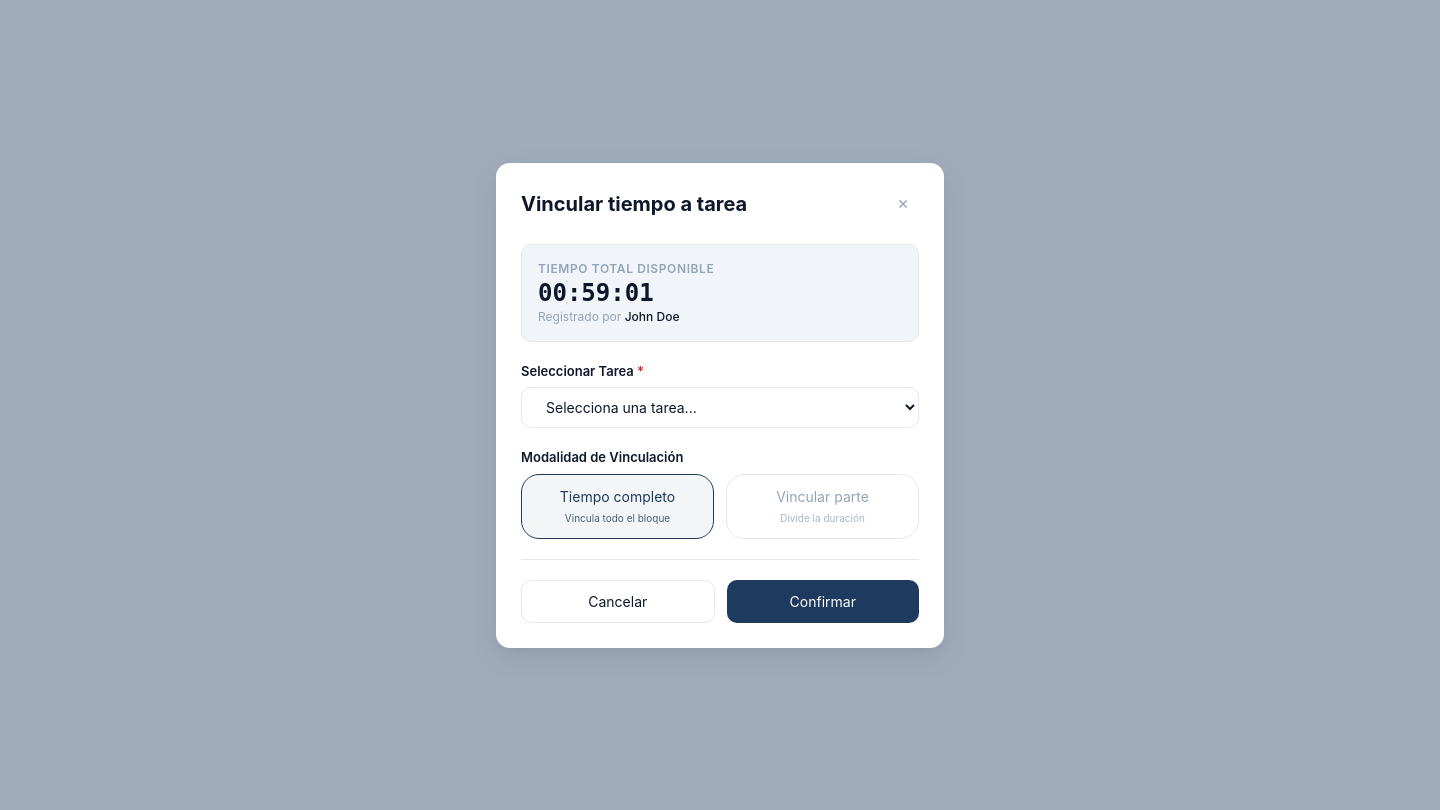
Test case: LinkTimeModal Component › User Interactions & Validations › should throw error when remaining time is less than 1 second
The width and height of the screenshot is (1440, 810).
Click the button "Vincular parte Divide la duración". click: (822, 506)
box: [726,474,919,538]
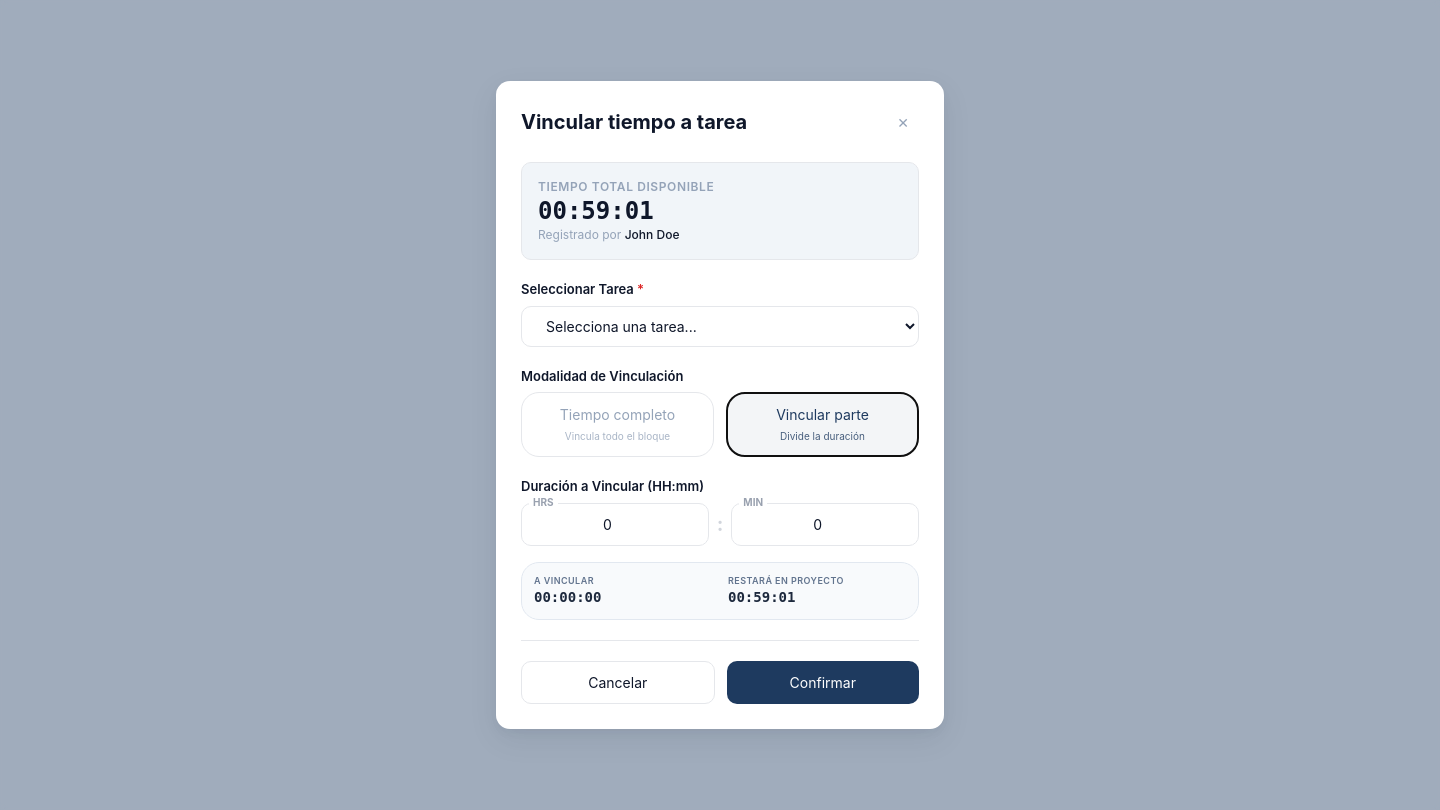
Select "Tarea: Design UI (Por hacer)" in the dropdown labelled "Seleccionar Tarea *". click: (720, 326)
box: [521,306,919,347]
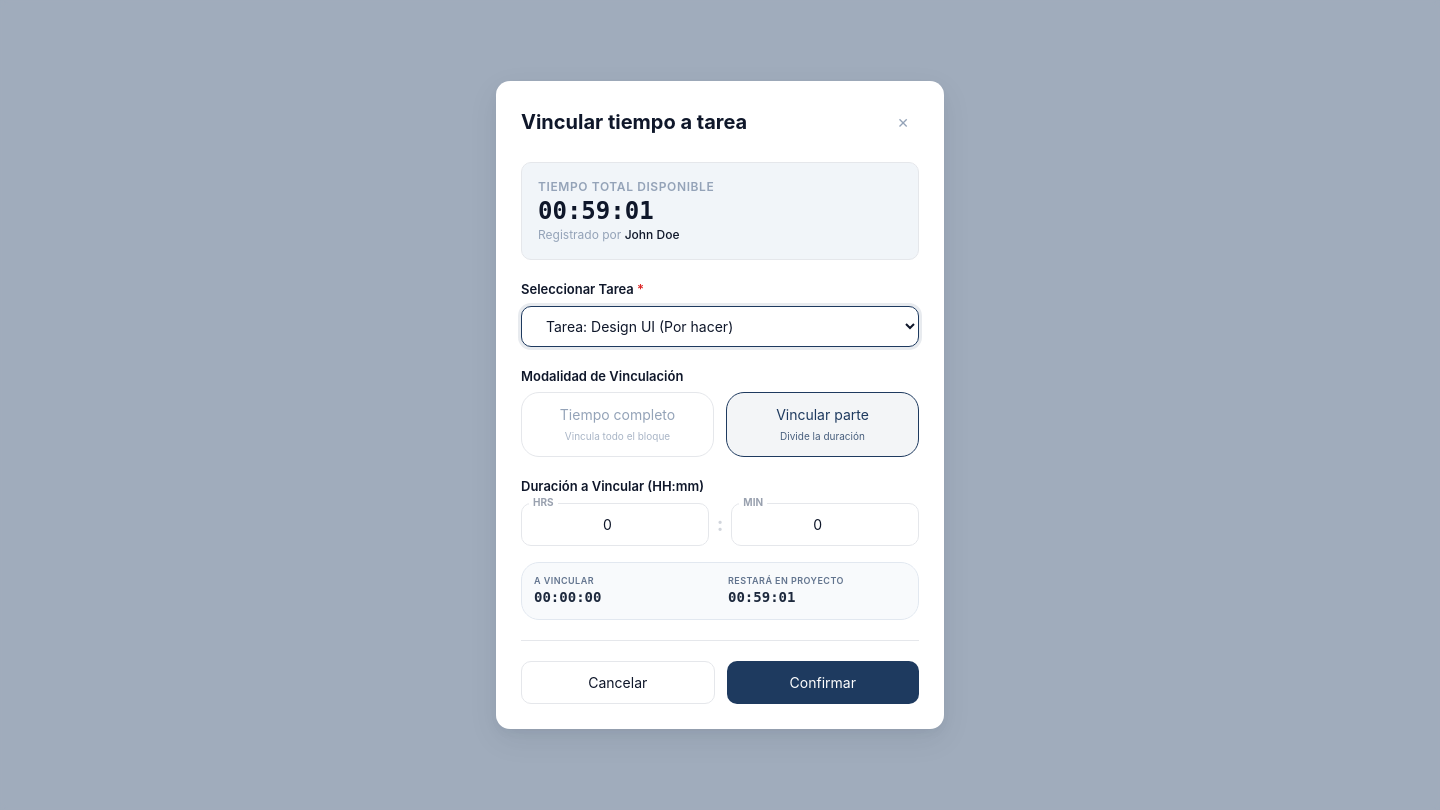
Note: Set duration to 59 minutes (leaves less than 1 second)
Replace the text in the number field with placeholder "MM" next to "MIN" with "59". click: (825, 524)
box: [731,503,919,546]
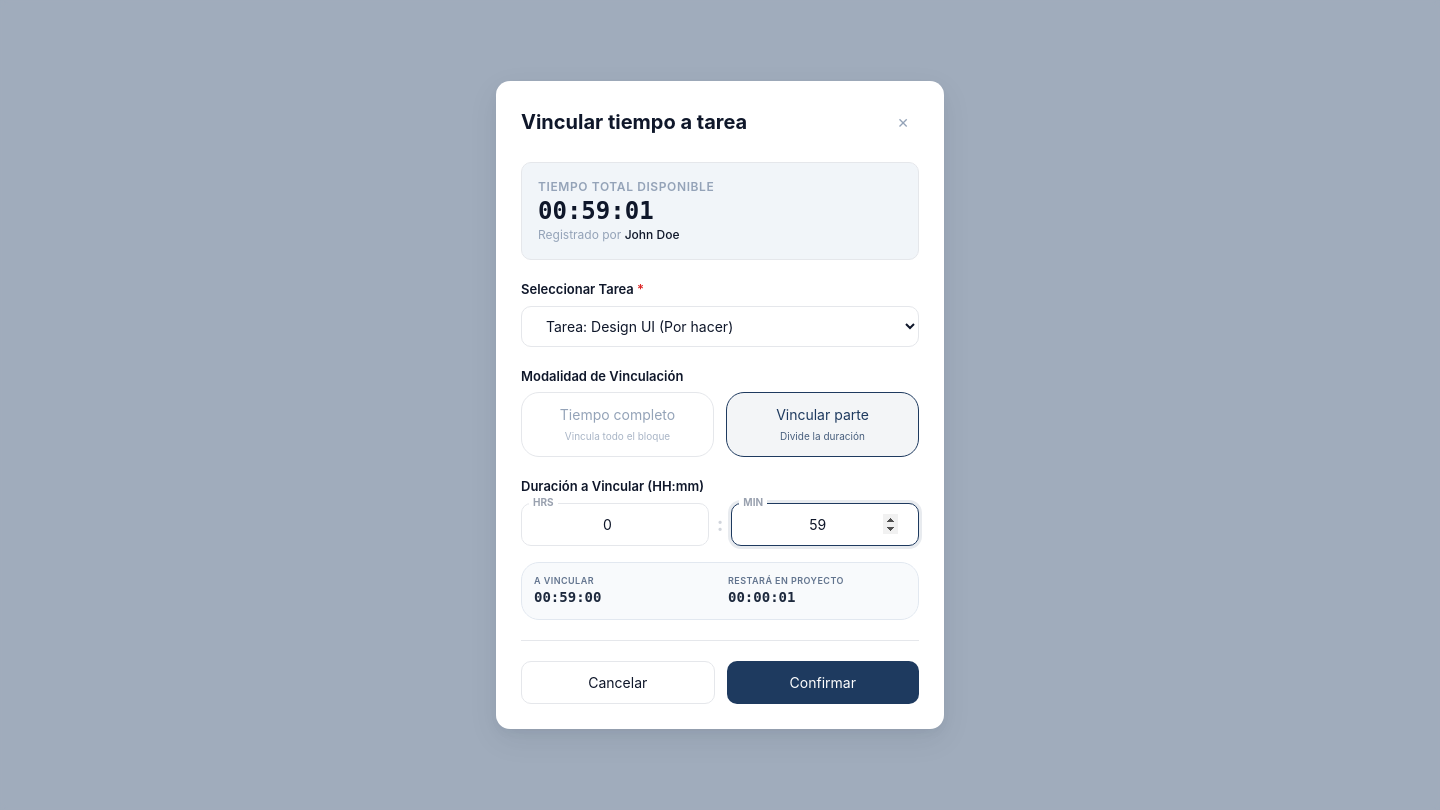
Click the button "Confirmar". click: (823, 682)
box: [727,661,919,704]
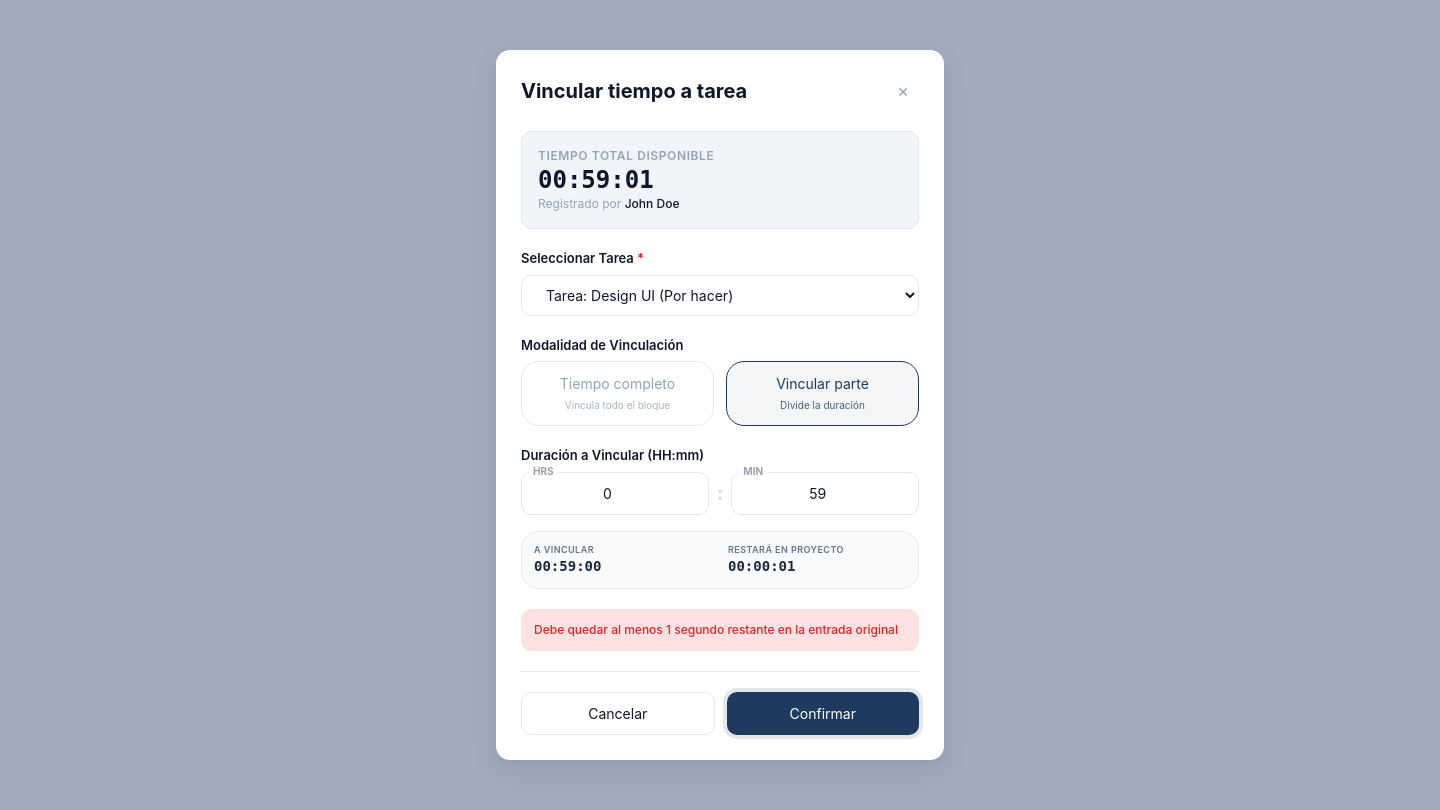
expect the text "Debe quedar al menos 1 segundo restante en la entrada original" is shown: met, box [521,609,919,651]
